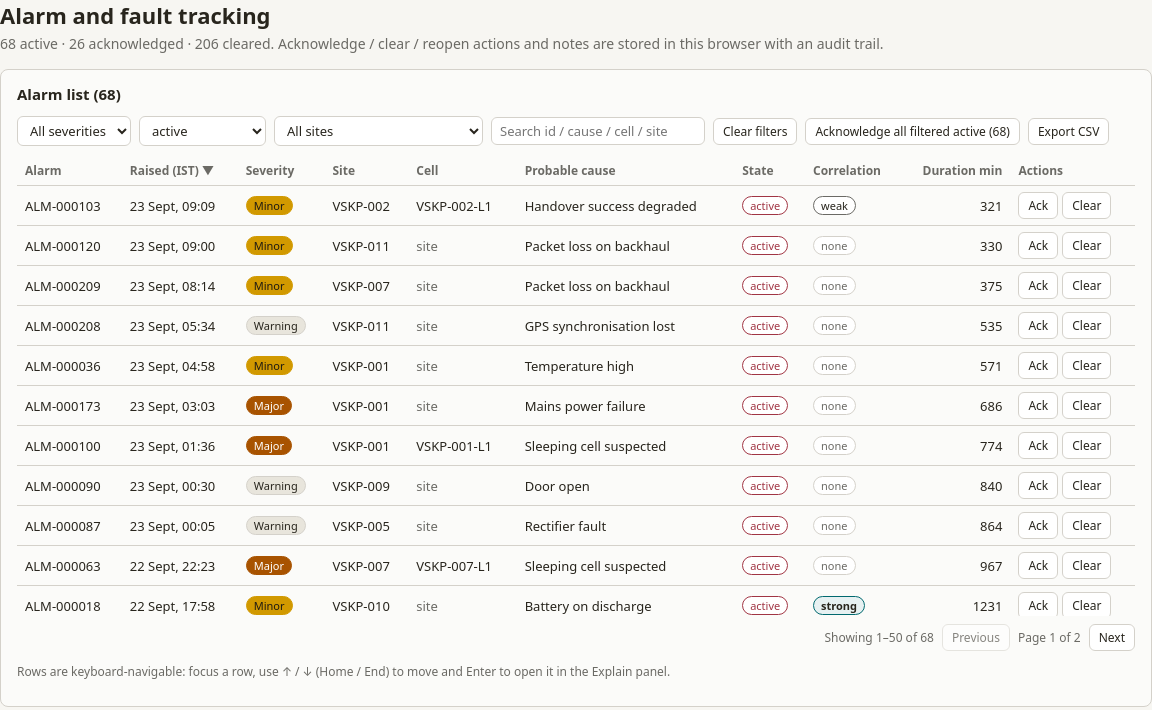
Scenario: Alarms page — operator actions and audit › acknowledges all filtered active alarms after confirmation
The width and height of the screenshot is (1152, 710).
Click the button "Acknowledge all filtered active (68)": (913, 131) [805,118,1020,144]
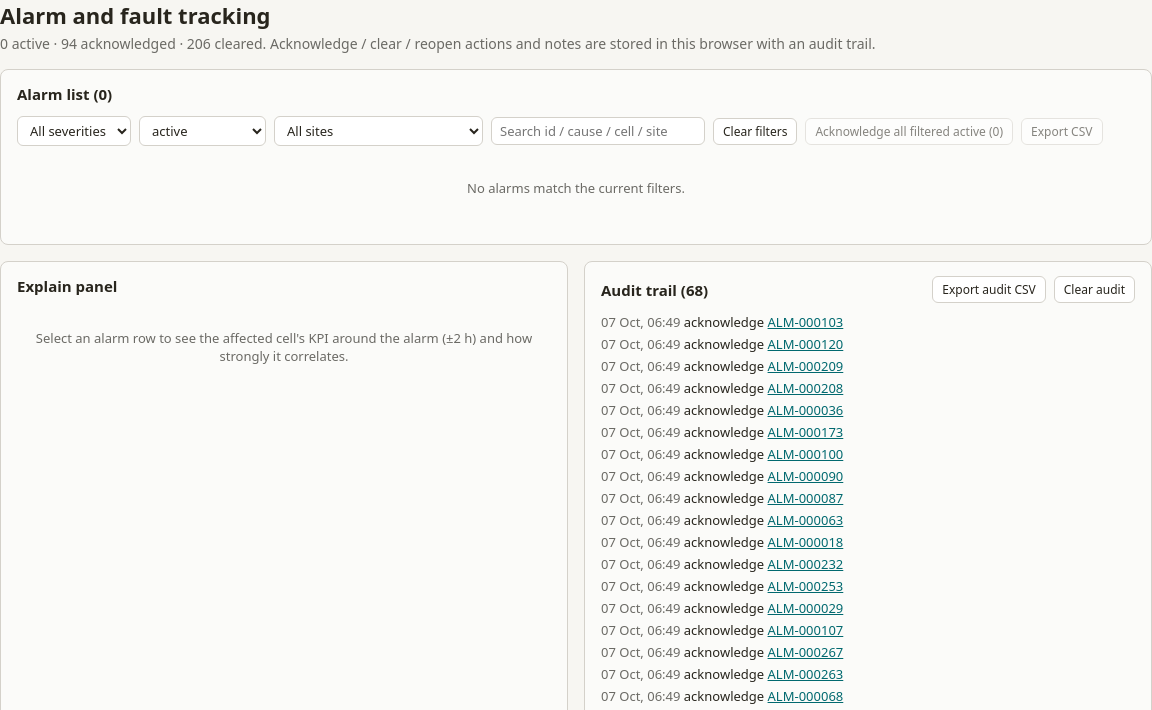
Check: the heading "Alarm list (0)" is shown, box [17,84,112,104]
